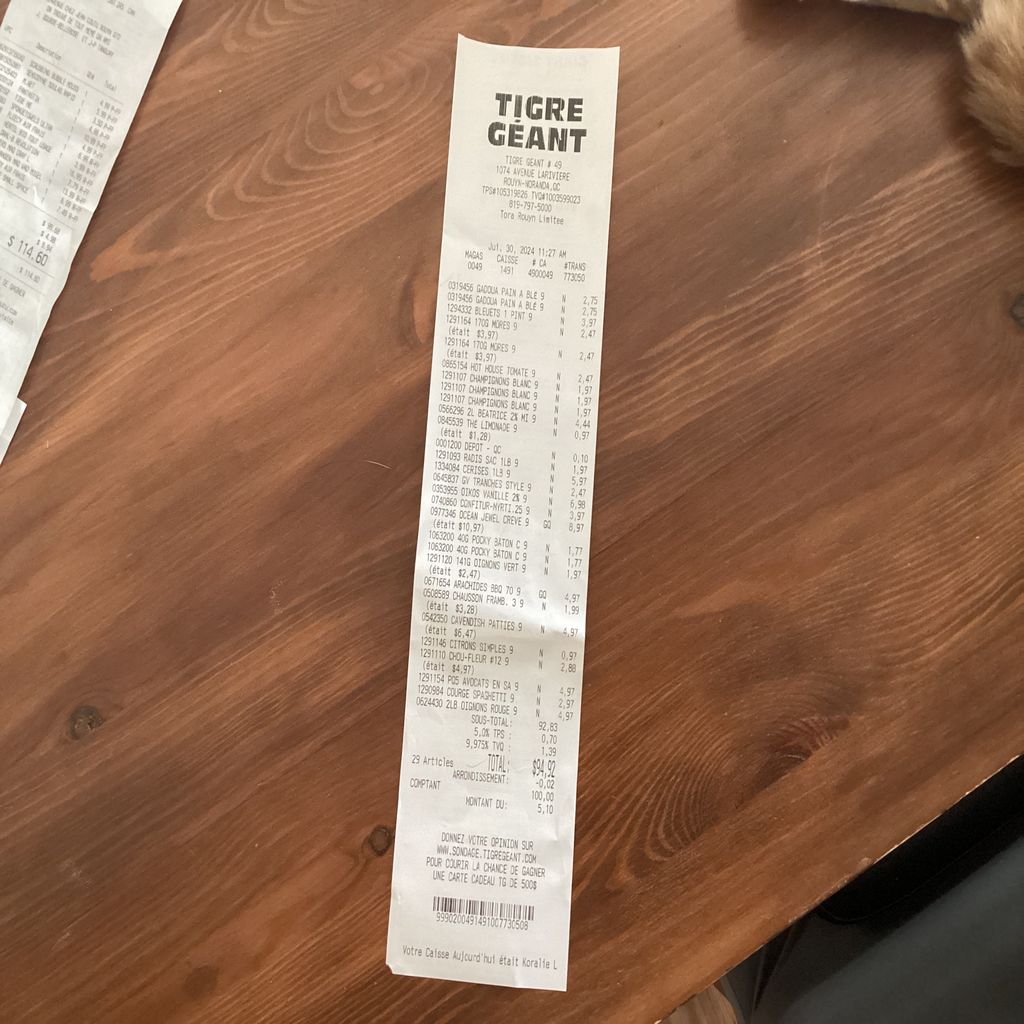recipt: (384, 32, 619, 992)
